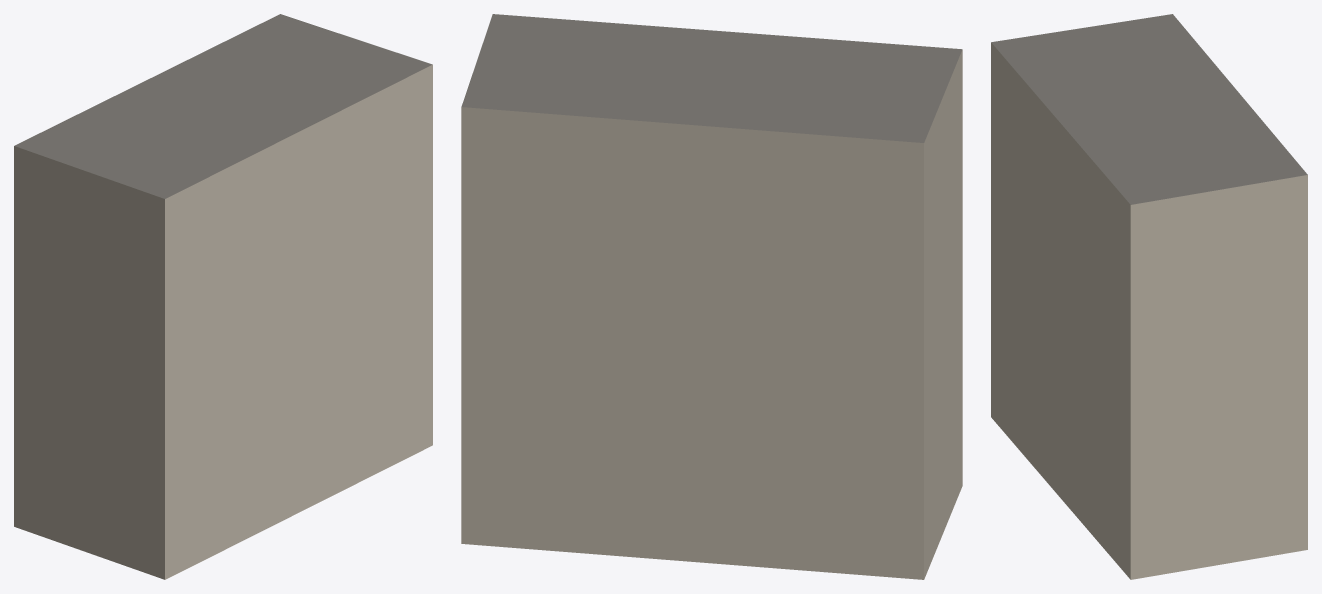
The picture shows the model from 3 angles, left to right: view 1: azimuth 30°, elevation 25°; view 2: azimuth 150°, elevation 25°; view 3: azimuth 270°, elevation 25°; orthographic projection. The views are drawn at different scales.
Parts seen in each view (by area): view 1: HP-w505653357; view 2: HP-w505653357; view 3: HP-w505653357.
Part boxes in pixels (x1=…): HP-w505653357: x1=14, y1=14, x2=432, y2=579; HP-w505653357: x1=461, y1=14, x2=962, y2=579; HP-w505653357: x1=991, y1=14, x2=1307, y2=579.
Size of the model in its own units: 19.66 by 18 by 13.78.
